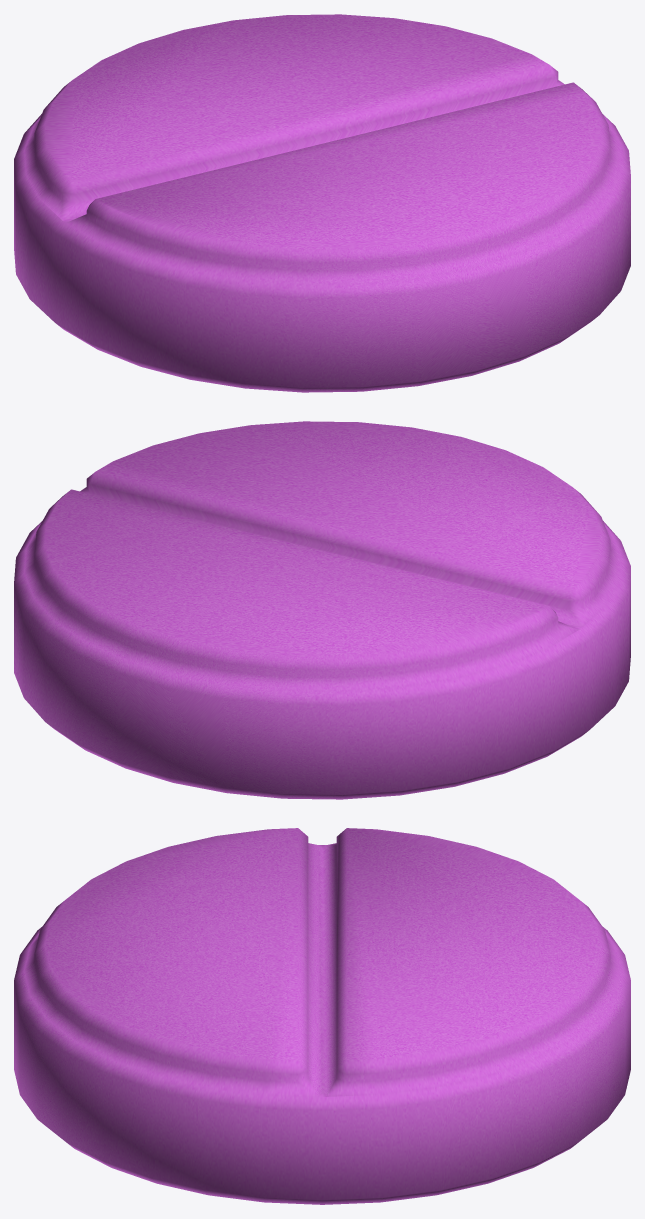
The model's file is pilly.glb.
3 views of the same model, one above another, from view 1: azimuth 30°, elevation 25°; view 2: azimuth 150°, elevation 25°; view 3: azimuth 270°, elevation 25° (orthographic).
Visible parts, largest first — view 1: Cylinder.001; view 2: Cylinder.001; view 3: Cylinder.001.
Part boxes in pixels (x1,y1,x2,y2): Cylinder.001: (14,14,630,392); Cylinder.001: (14,421,630,799); Cylinder.001: (14,828,630,1204).
Bounding box in the file's own units: 2 × 0.4808 × 2.
1 material, 1 textured.
